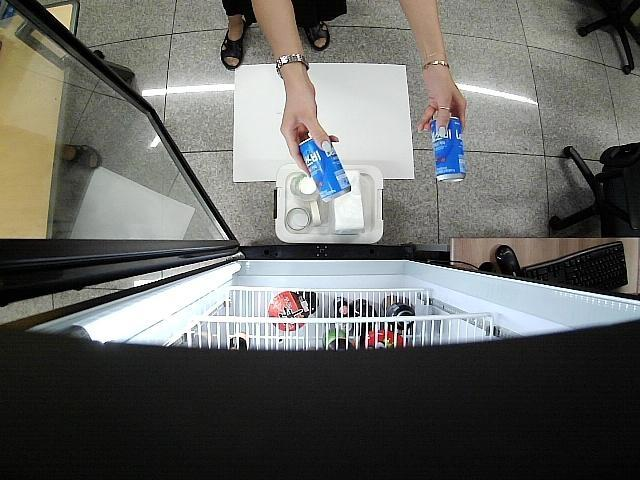15_letsbe: (298, 133, 354, 204), (430, 114, 468, 184)
